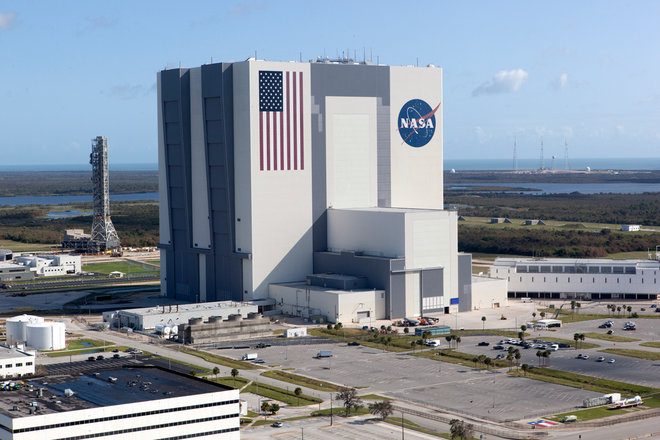NASA: (395, 93, 439, 148)
